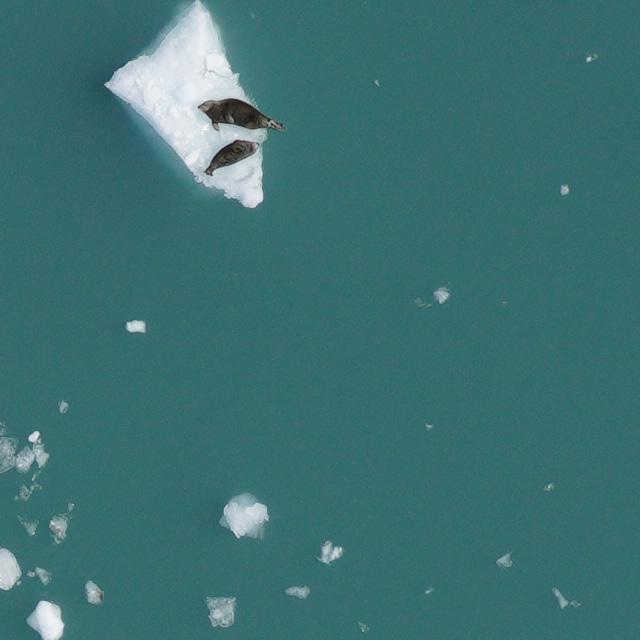seal: (195, 129, 264, 178), (199, 98, 284, 131)
